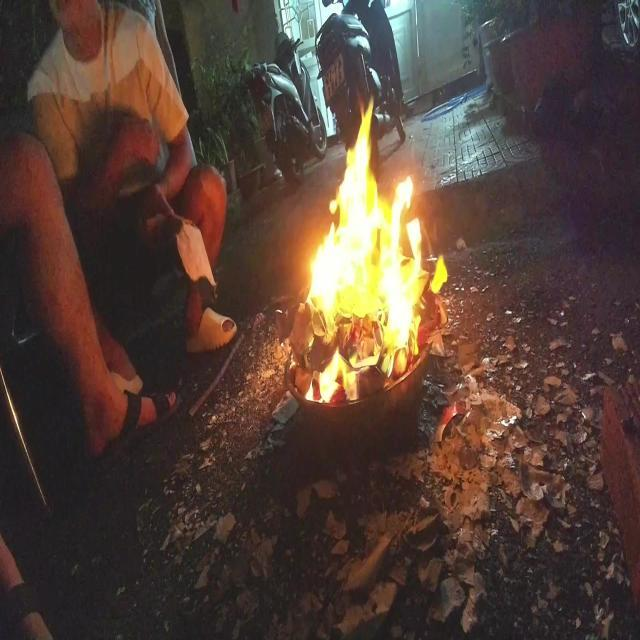Fire: (297, 90, 449, 406)
